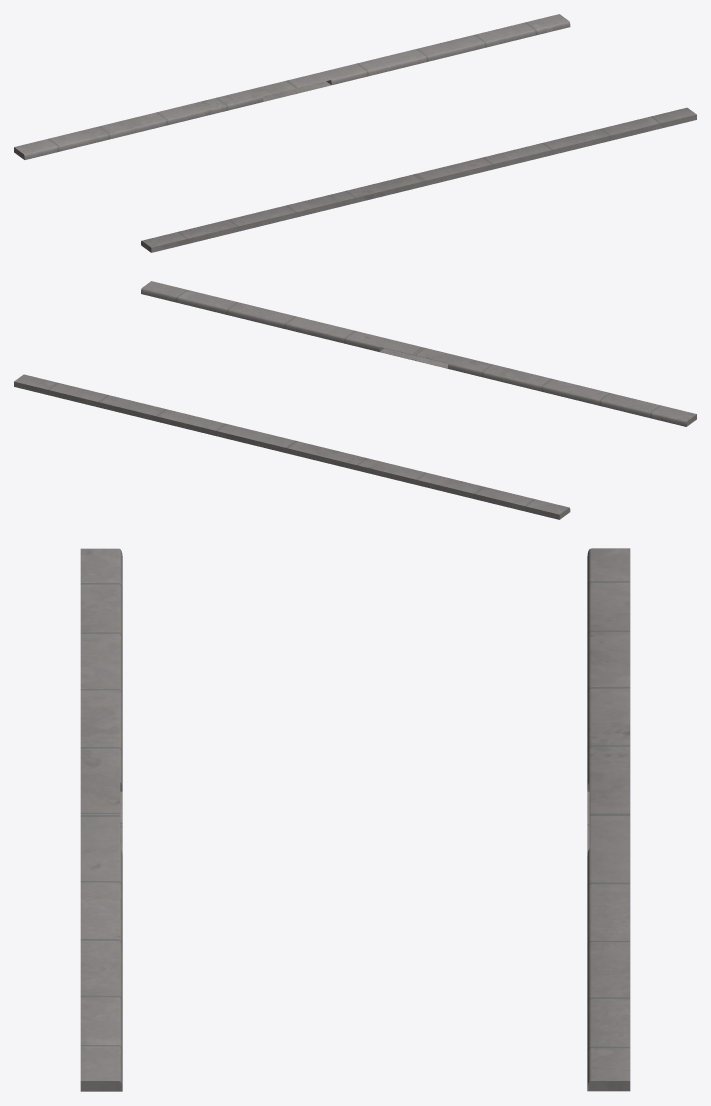
File: Long_SideWalks_Sewer.fbx
3 views of the same model, one above another, from view 1: azimuth 30°, elevation 25°; view 2: azimuth 150°, elevation 25°; view 3: azimuth 270°, elevation 25° (orthographic). The views are drawn at different scales.
Visible parts, largest first — view 1: Long_SideWalks_Sewer; view 2: Long_SideWalks_Sewer; view 3: Long_SideWalks_Sewer.
Part boxes in pixels (<box>): Long_SideWalks_Sewer: <box>14,14,696,252</box>; Long_SideWalks_Sewer: <box>14,281,696,519</box>; Long_SideWalks_Sewer: <box>80,548,630,1091</box>.
Size of the model in its own units: 1299 by 567 by 12.01.
